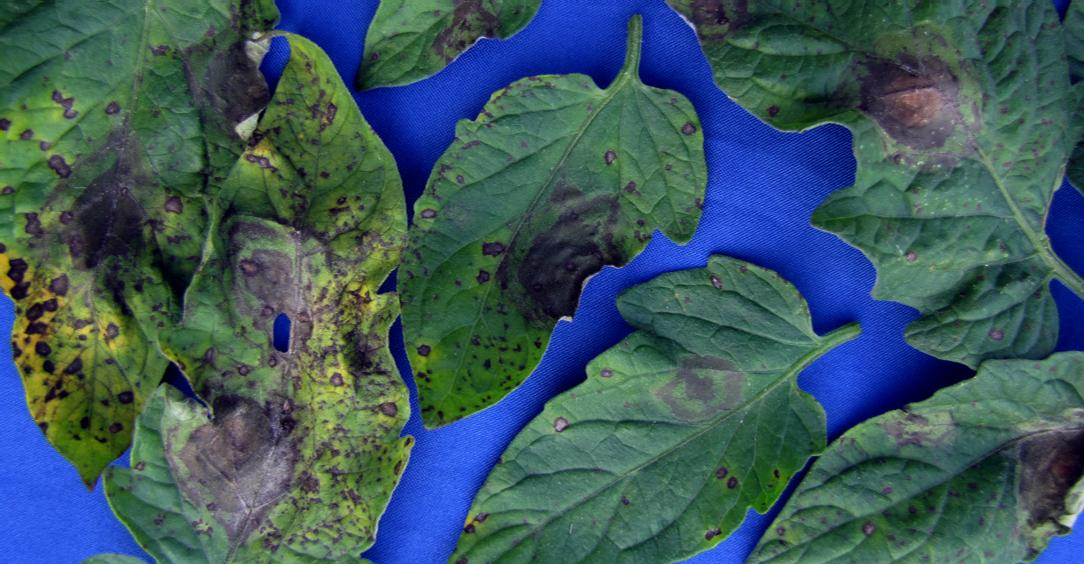Tomato leaf late blight: (578, 0, 1084, 350), (0, 0, 338, 514), (101, 25, 421, 564), (389, 28, 720, 455), (427, 270, 835, 564), (737, 370, 1084, 564)
